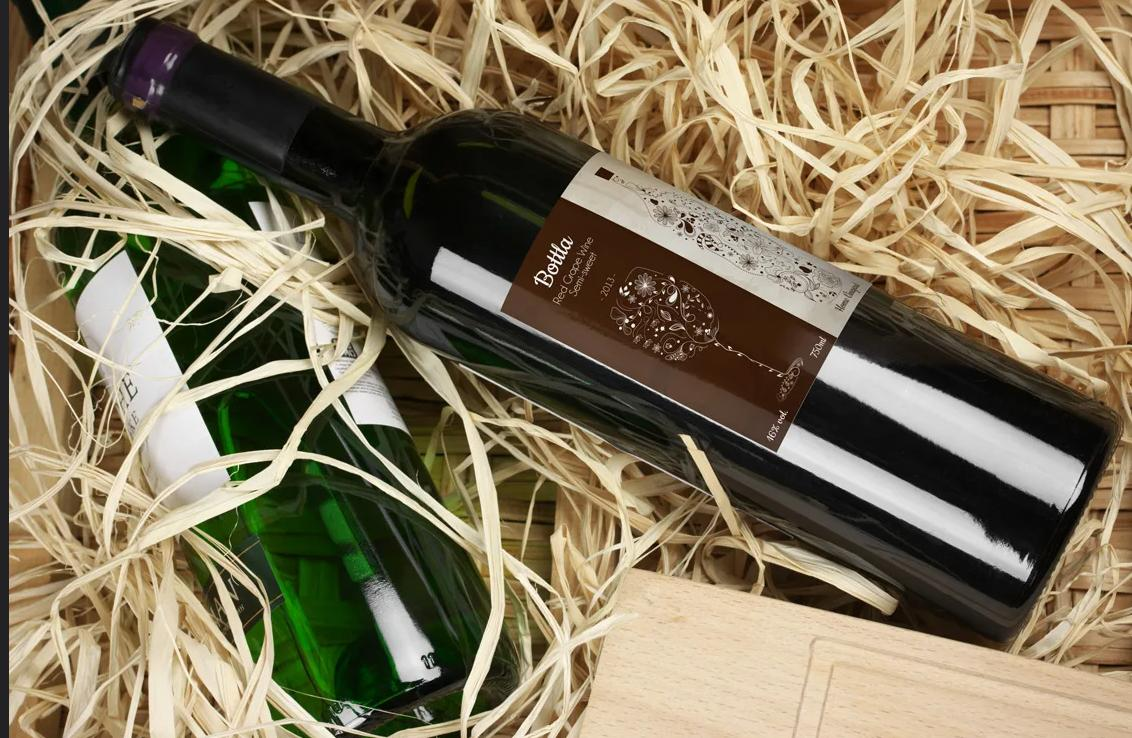wine bottle: (106, 12, 1126, 640), (3, 0, 528, 738)
wine label: (500, 151, 872, 454), (71, 249, 241, 532)
